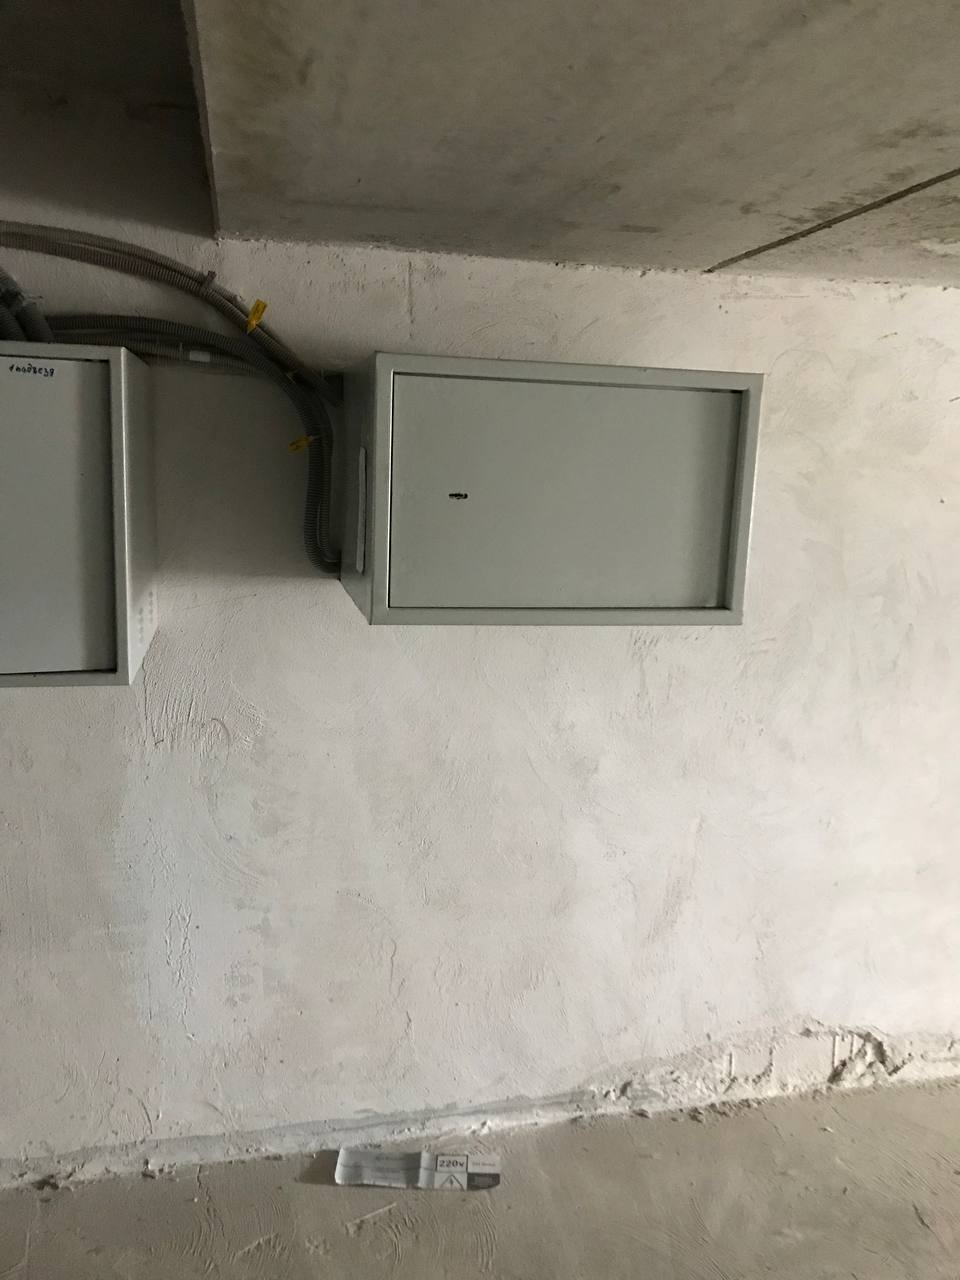shta-7m: (334, 344, 770, 639)
